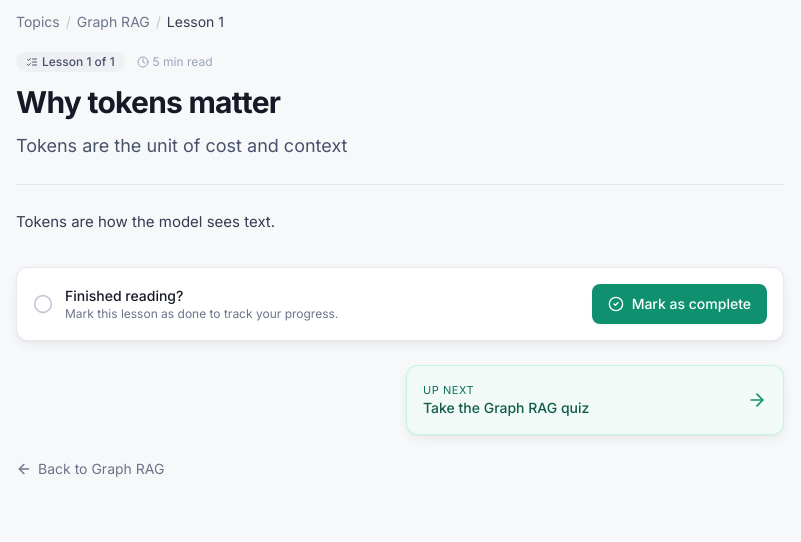
Test: LessonPage › shows an error and keeps the state when the toggle rejects
Click the button "Mark as complete": (679, 304) [592,284,767,324]
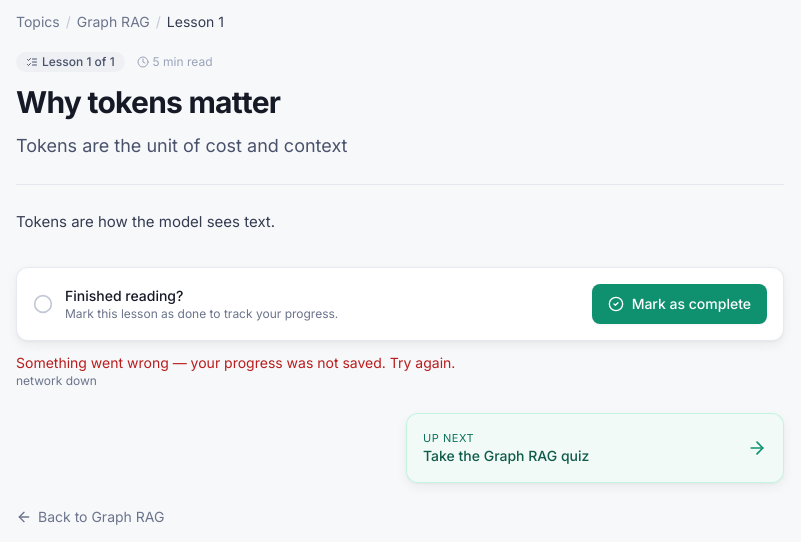
Check: the message "Something went wrong — your progress was not saved. Try again. network down" is shown, box [16,354,455,388]
